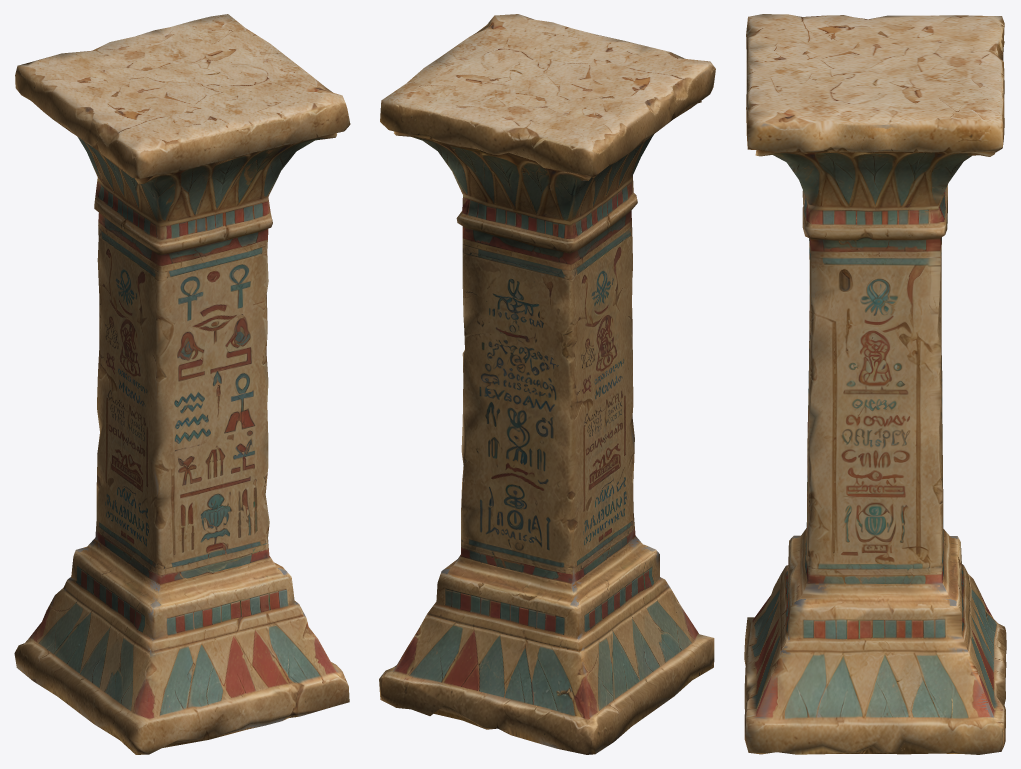
The model's file is Tile_Desert_Pillar.fbx.
3 renders of one model, left to right at view 1: azimuth 30°, elevation 25°; view 2: azimuth 150°, elevation 25°; view 3: azimuth 270°, elevation 25°, orthographic. The views are drawn at different scales.
Visible parts, largest first — view 1: texture_mapping; view 2: texture_mapping; view 3: texture_mapping.
Boxes of the visible parts, x1=… form: texture_mapping: x1=14, y1=14, x2=350, y2=754; texture_mapping: x1=379, y1=14, x2=715, y2=754; texture_mapping: x1=744, y1=14, x2=1006, y2=754.
Size of the model in its own units: 0.3751 by 0.3752 by 1.
Materials: 1 (1 with a texture image).
